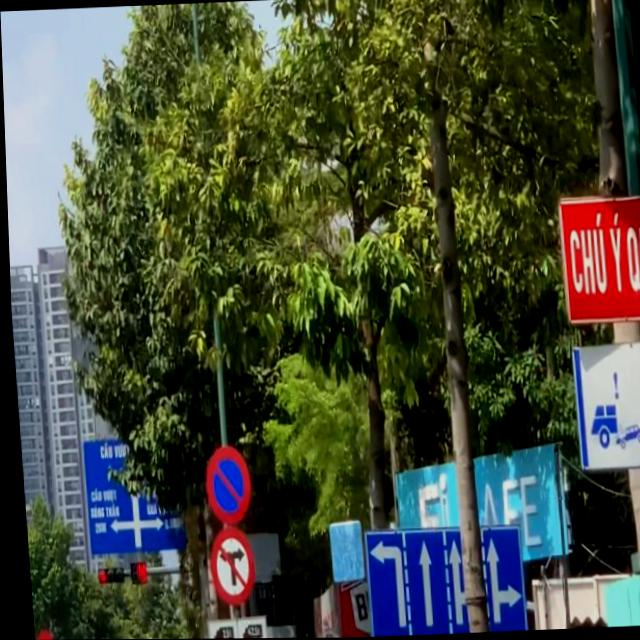Cam di nguoc chieu: (30, 624, 49, 640)
Cam do xe: (195, 439, 251, 527)
